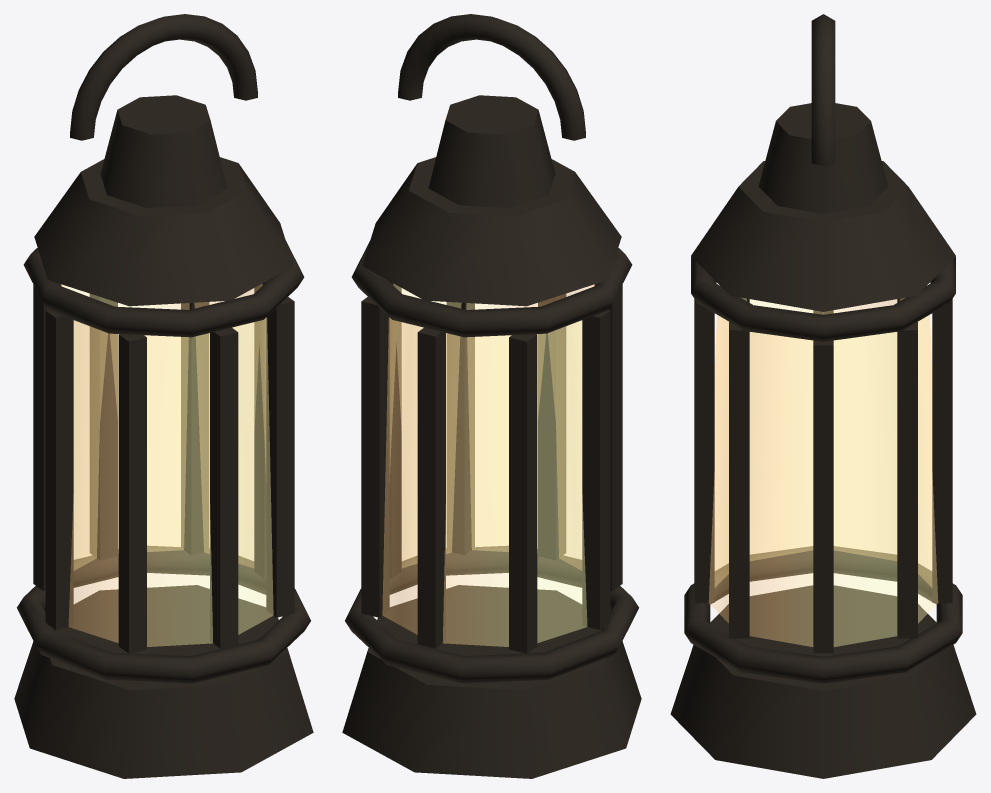
Rendered from lantern.glb.
3 views of the same model, side by side, from view 1: azimuth 30°, elevation 25°; view 2: azimuth 150°, elevation 25°; view 3: azimuth 270°, elevation 25° (orthographic).
Visible parts, largest first — view 1: lantern; view 2: lantern; view 3: lantern.
Boxes of the visible parts, x1,y1,x2,y2 form: lantern: [14, 14, 313, 778]; lantern: [342, 14, 641, 778]; lantern: [670, 14, 976, 778].
Size of the model in its own units: 0.18 by 0.448 by 0.18.
